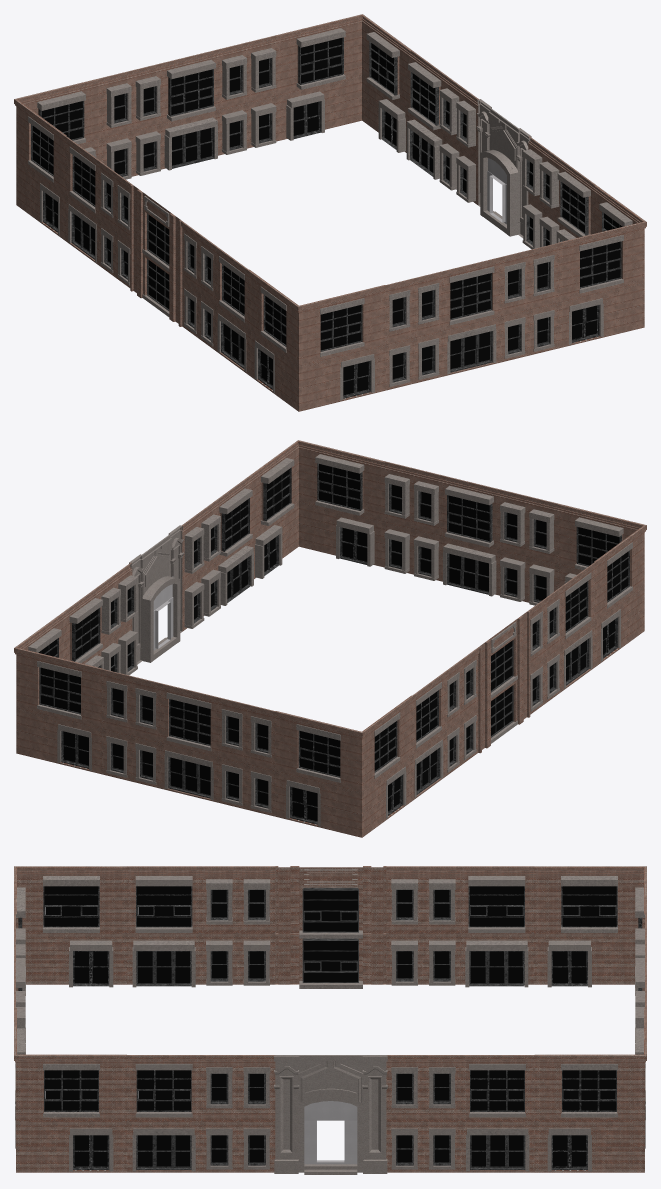
The model's file is BuildingB_Bottom_Shell_VarB.fbx.
The picture shows the model from 3 angles, top to bottom: view 1: azimuth 30°, elevation 25°; view 2: azimuth 150°, elevation 25°; view 3: azimuth 270°, elevation 25°; orthographic projection. The views are drawn at different scales.
Visible parts, largest first — view 1: BuildingB_Bottom_Shell_VarB; view 2: BuildingB_Bottom_Shell_VarB; view 3: BuildingB_Bottom_Shell_VarB.
Part boxes in pixels (<box>): BuildingB_Bottom_Shell_VarB: <box>14,14,646,411</box>; BuildingB_Bottom_Shell_VarB: <box>14,440,646,837</box>; BuildingB_Bottom_Shell_VarB: <box>14,866,646,1174</box>.
Size of the model in its own units: 2444 by 700 by 3416.
